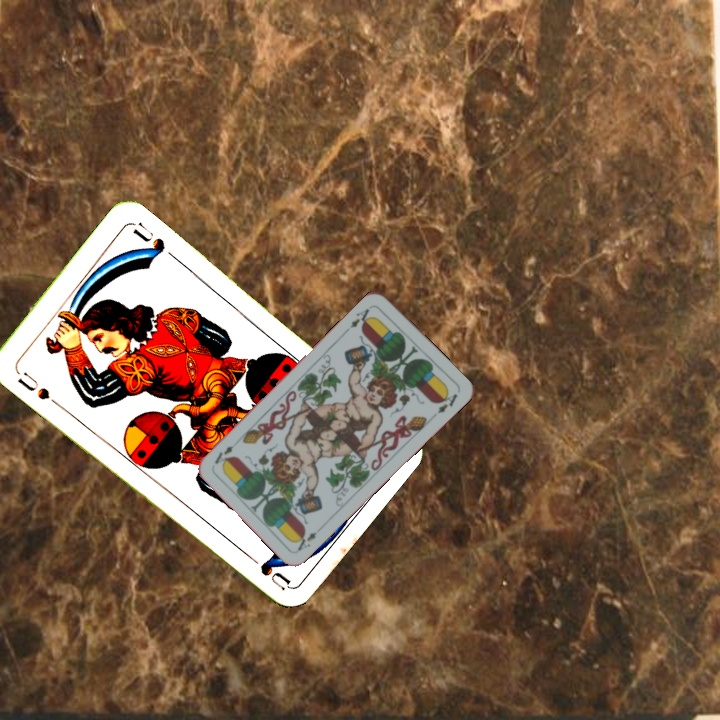EA: (346, 302, 376, 331), (291, 528, 319, 554)
SU: (13, 367, 53, 403)
